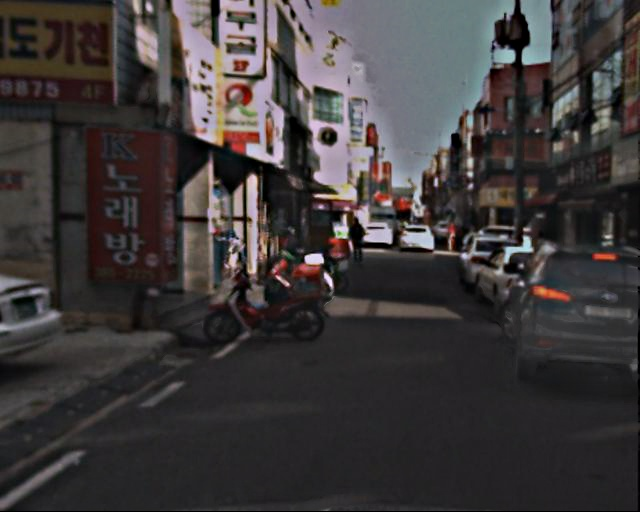person: (347, 217, 368, 269), (444, 222, 464, 254)
